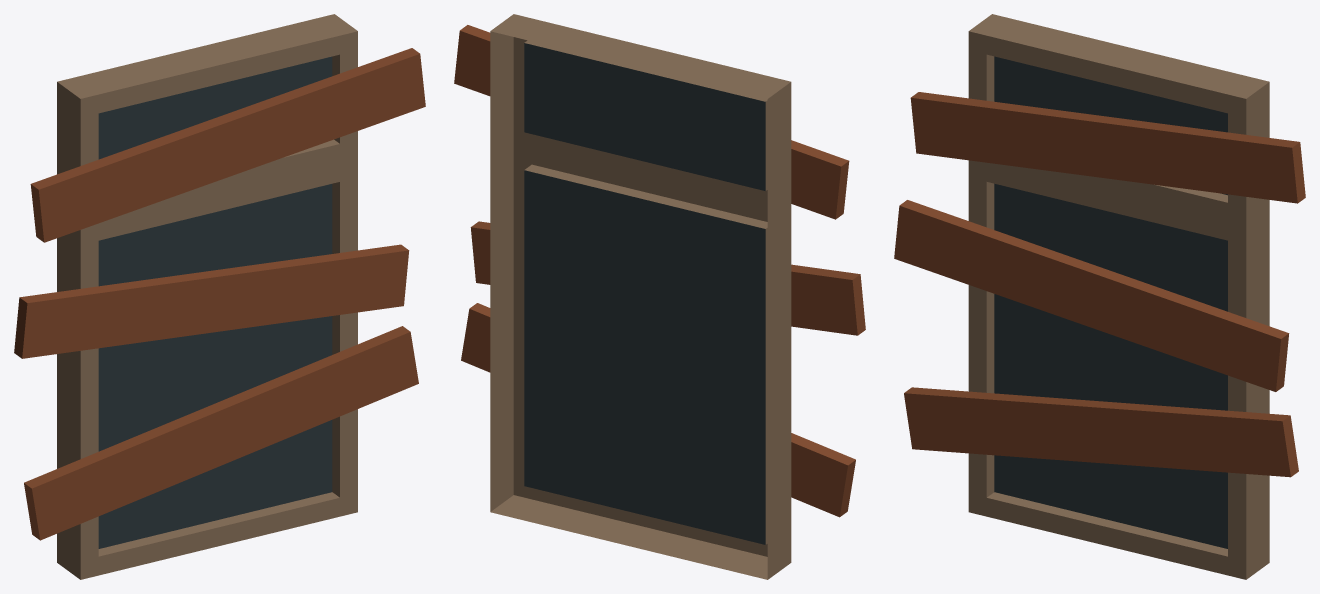
The model's file is LP_PostApoc_Window4.fbx.
3 renders of one model, left to right at view 1: azimuth 30°, elevation 25°; view 2: azimuth 150°, elevation 25°; view 3: azimuth 330°, elevation 25°, orthographic.
Visible parts, largest first — view 1: Window4; view 2: Window4; view 3: Window4.
Part boxes in pixels (bbox=[...]): Window4: bbox=[14, 14, 425, 579]; Window4: bbox=[454, 14, 865, 579]; Window4: bbox=[894, 14, 1305, 579].
Size of the model in its own units: 125 by 142 by 16.91.
